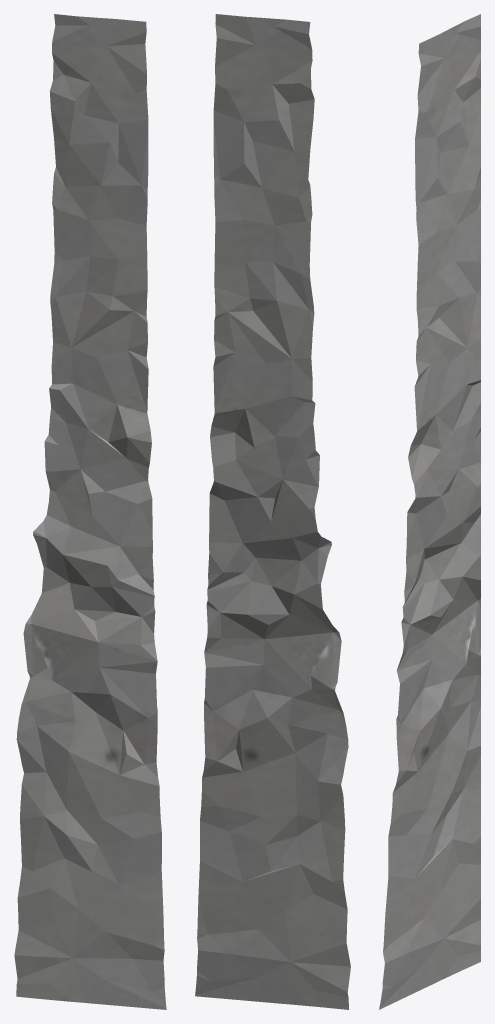
The picture shows the model from 3 angles, left to right: view 1: azimuth 30°, elevation 25°; view 2: azimuth 210°, elevation 25°; view 3: azimuth 270°, elevation 25°; orthographic projection. The views are drawn at different scales.
Size of the model in its own units: 0.0907 by 0.8373 by 0.0799.
1 material, 1 textured.
